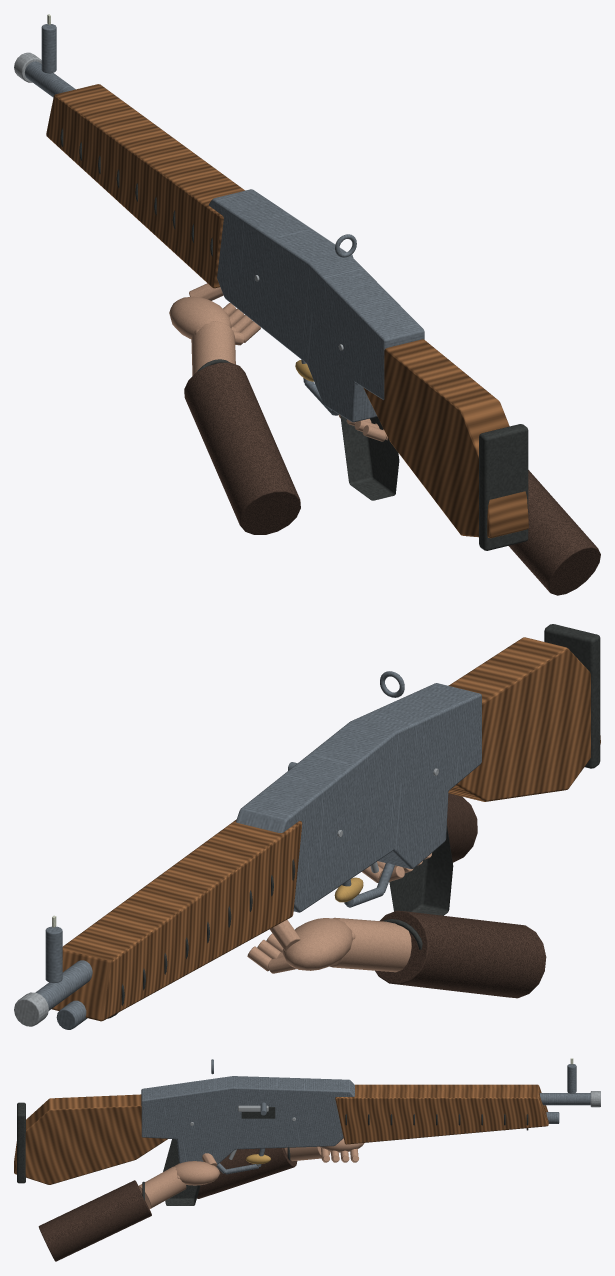
The picture shows the model from 3 angles, top to bottom: view 1: azimuth 30°, elevation 25°; view 2: azimuth 150°, elevation 25°; view 3: azimuth 270°, elevation 25°; orthographic projection. The views are drawn at different scales.
Visible parts, largest first — view 1: m870__BODY, m870__PUMP, m870__HAND_L, m870__HAND_R; view 2: m870__BODY, m870__PUMP, m870__HAND_L, m870__HAND_R; view 3: m870__BODY, m870__PUMP, m870__HAND_R, m870__HAND_L.
Part boxes in pixels (left/top/right/bottom): m870__BODY: left=14, top=14, right=528, bottom=550; m870__PUMP: left=46, top=84, right=244, bottom=288; m870__HAND_L: left=169, top=283, right=300, bottom=534; m870__HAND_R: left=338, top=414, right=600, bottom=595; m870__BODY: left=14, top=624, right=600, bottom=1029; m870__PUMP: left=52, top=819, right=302, bottom=1021; m870__HAND_L: left=247, top=910, right=546, bottom=998; m870__HAND_R: left=362, top=793, right=477, bottom=882; m870__BODY: left=14, top=1058, right=600, bottom=1205; m870__PUMP: left=335, top=1084, right=548, bottom=1144; m870__HAND_R: left=38, top=1153, right=220, bottom=1261; m870__HAND_L: left=197, top=1138, right=364, bottom=1198.
Bounding box in the file's own units: 0.3294 × 0.3781 × 1.15.
8 materials, 8 textured.
